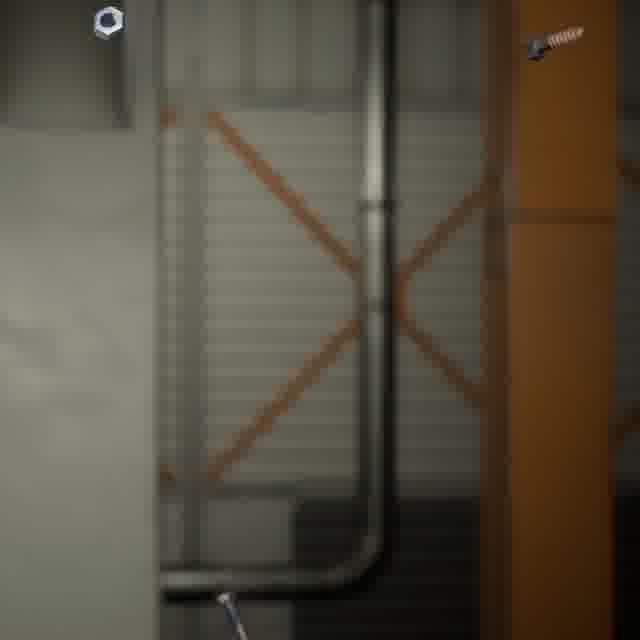bolt: (518, 21, 589, 65), (211, 585, 253, 640)
nut: (89, 2, 129, 46)
